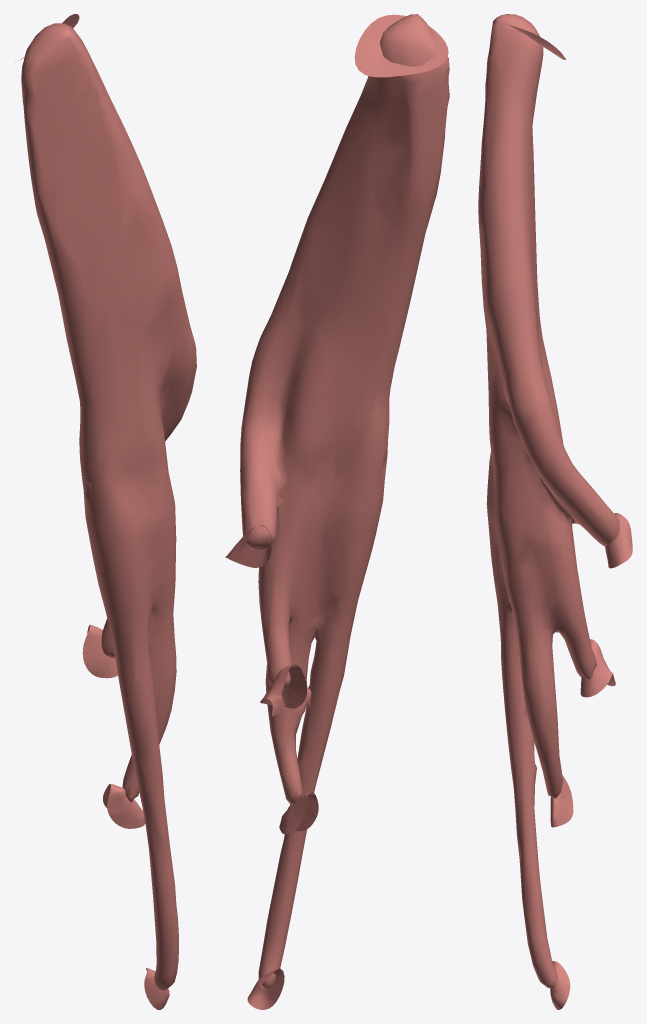
The model's file is fma46310_mm1295.glb.
The picture shows the model from 3 angles, left to right: view 1: azimuth 30°, elevation 25°; view 2: azimuth 150°, elevation 25°; view 3: azimuth 270°, elevation 25°; orthographic projection. The views are drawn at different scales.
Visible parts, largest first — view 1: FMA46310_MM1295; view 2: FMA46310_MM1295; view 3: FMA46310_MM1295.
Part boxes in pixels (x1,y1,x2,y2): FMA46310_MM1295: (15,14,196,1009); FMA46310_MM1295: (225,14,449,1009); FMA46310_MM1295: (478,14,632,1009).
Bounding box in the file's own units: 0.0213 × 0.1112 × 0.0166.
